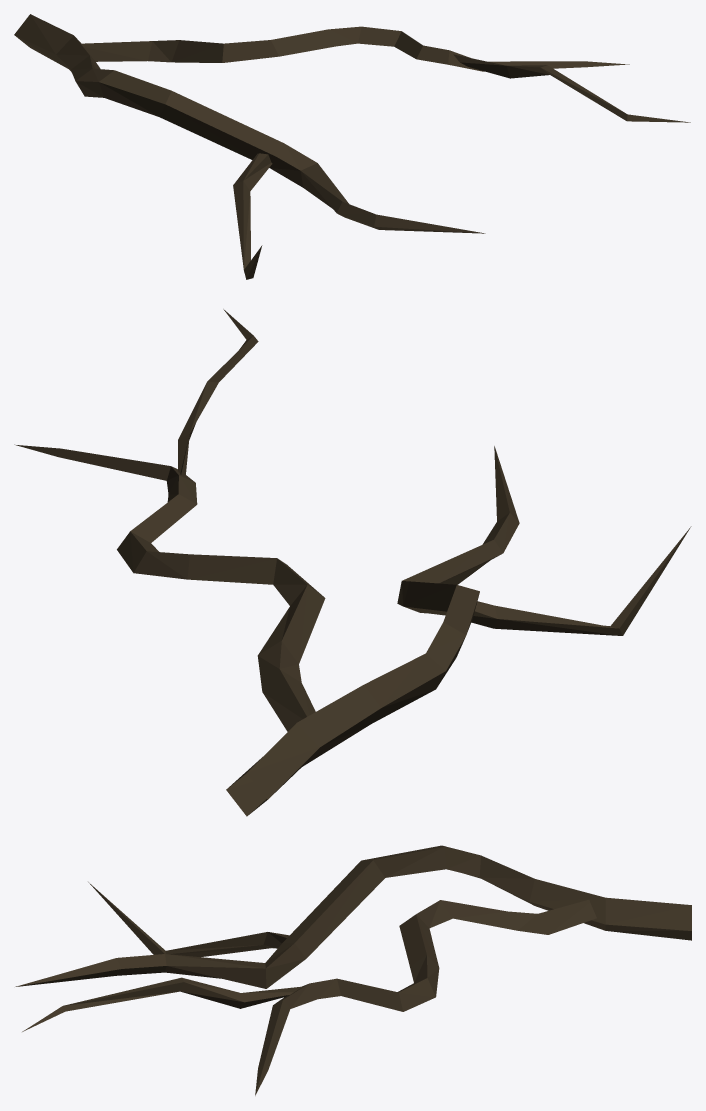
The model's file is Root_Small_3_LOD.fbx.
3 views of the same model, one above another, from view 1: azimuth 30°, elevation 25°; view 2: azimuth 150°, elevation 25°; view 3: azimuth 270°, elevation 25° (orthographic). The views are drawn at different scales.
Visible parts, largest first — view 1: polySurface1265; view 2: polySurface1265; view 3: polySurface1265.
Part boxes in pixels (bbox=[...]): polySurface1265: bbox=[14, 14, 690, 279]; polySurface1265: bbox=[14, 309, 691, 816]; polySurface1265: bbox=[15, 845, 691, 1095].
Size of the model in its own units: 4.88 by 1.36 by 6.13.
